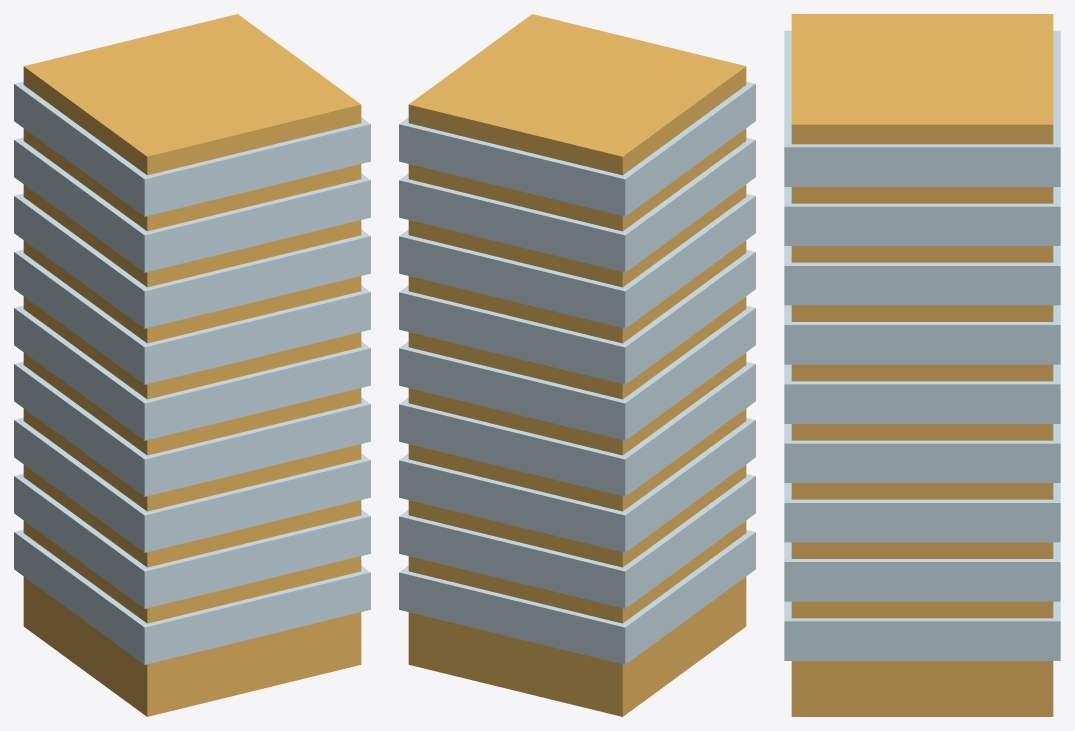
The model's file is Optimized_House_02.fbx.
3 views of the same model, side by side, from view 1: azimuth 30°, elevation 25°; view 2: azimuth 150°, elevation 25°; view 3: azimuth 270°, elevation 25° (orthographic). The views are drawn at different scales.
Parts seen in each view (by area): view 1: Optimized_02; view 2: Optimized_02; view 3: Optimized_02.
Part boxes in pixels (<box>): Optimized_02: <box>14,14,370,716</box>; Optimized_02: <box>399,14,755,716</box>; Optimized_02: <box>784,14,1060,716</box>.
Size of what is drawn, in the model's own units: 1267 by 3000 by 1267.
Materials: 1 (1 with a texture image).
